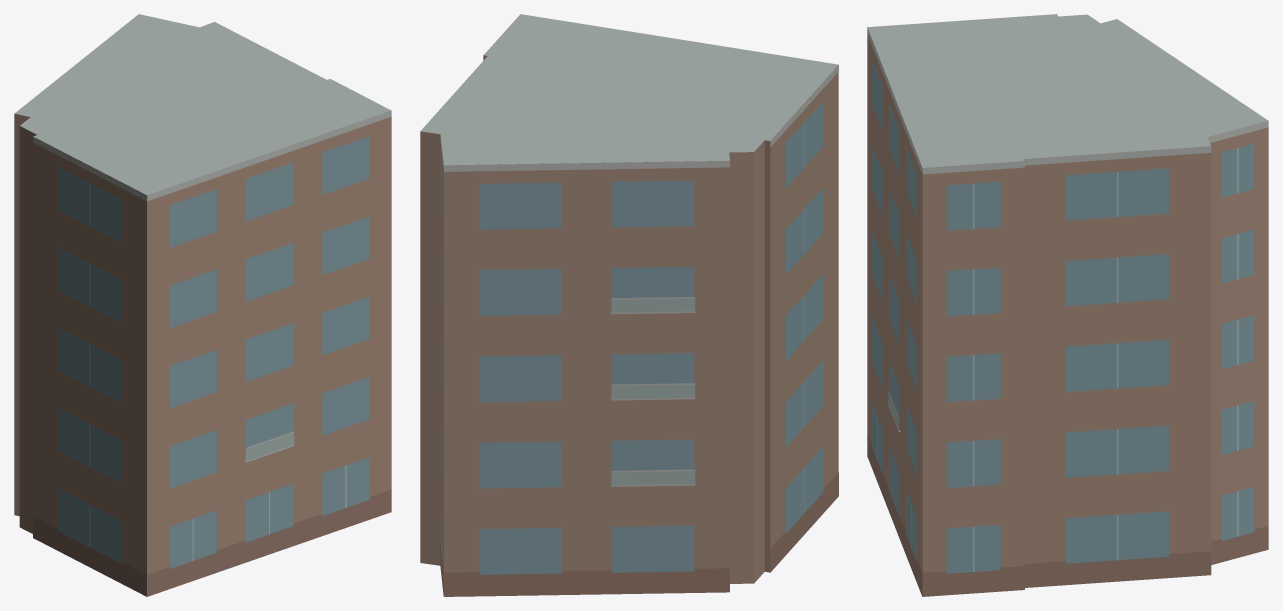
The model's file is survey-upis-32539842.glb.
3 views of the same model, side by side, from view 1: azimuth 30°, elevation 25°; view 2: azimuth 150°, elevation 25°; view 3: azimuth 270°, elevation 25° (orthographic). The views are drawn at different scales.
Parts seen in each view (by area): view 1: survey-upis-32539842.tmp; view 2: survey-upis-32539842.tmp; view 3: survey-upis-32539842.tmp.
Part boxes in pixels (<box>): survey-upis-32539842.tmp: <box>14,14,391,596</box>; survey-upis-32539842.tmp: <box>420,14,838,596</box>; survey-upis-32539842.tmp: <box>867,14,1268,596</box>.
Size of the model in its own units: 12.29 by 15.95 by 13.54.
